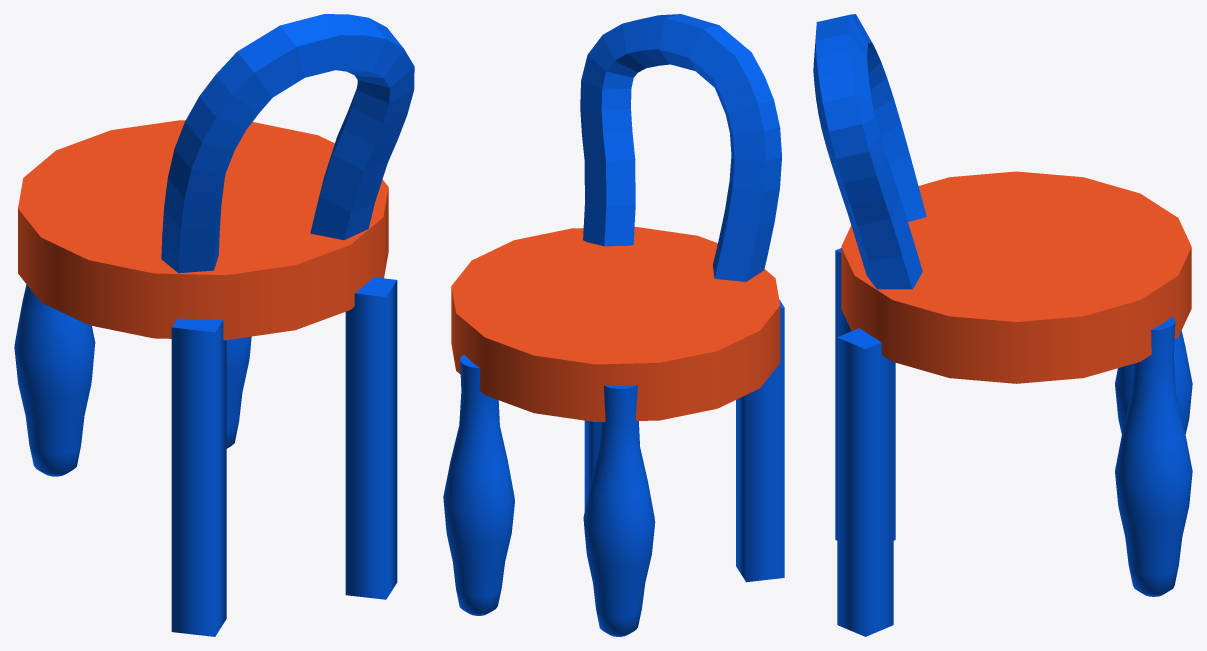
File: chair.obj
The picture shows the model from 3 angles, left to right: view 1: azimuth 30°, elevation 25°; view 2: azimuth 150°, elevation 25°; view 3: azimuth 270°, elevation 25°; orthographic projection. The views are drawn at different scales.
Parts seen in each view (by area): view 1: Cylinder_1, Tube_1, Cylinder_2, Cylinder_3, Lathed_Object_1, Lathed_Object_1_1; view 2: Cylinder_1, Tube_1, Lathed_Object_1, Lathed_Object_1_1, Cylinder_2, Cylinder_3; view 3: Cylinder_1, Tube_1, Cylinder_3, Lathed_Object_1_1, Lathed_Object_1, Cylinder_2.
Boxes of the visible parts, bbox=[...] form: Cylinder_1: bbox=[18, 120, 388, 340]; Tube_1: bbox=[161, 14, 414, 273]; Cylinder_2: bbox=[171, 318, 226, 636]; Cylinder_3: bbox=[345, 277, 397, 599]; Lathed_Object_1: bbox=[14, 284, 95, 476]; Lathed_Object_1_1: bbox=[226, 336, 251, 448]; Cylinder_1: bbox=[451, 227, 780, 421]; Tube_1: bbox=[580, 14, 781, 281]; Lathed_Object_1: bbox=[583, 385, 655, 636]; Lathed_Object_1_1: bbox=[443, 354, 514, 615]; Cylinder_2: bbox=[736, 299, 784, 582]; Cylinder_3: bbox=[584, 420, 600, 533]; Cylinder_1: bbox=[841, 171, 1191, 383]; Tube_1: bbox=[813, 14, 926, 289]; Cylinder_3: bbox=[837, 328, 893, 636]; Lathed_Object_1_1: bbox=[1115, 317, 1192, 596]; Lathed_Object_1: bbox=[1115, 331, 1192, 434]; Cylinder_2: bbox=[835, 248, 895, 540].
Size of the model in its own units: 1.83 by 3.2 by 1.95.
